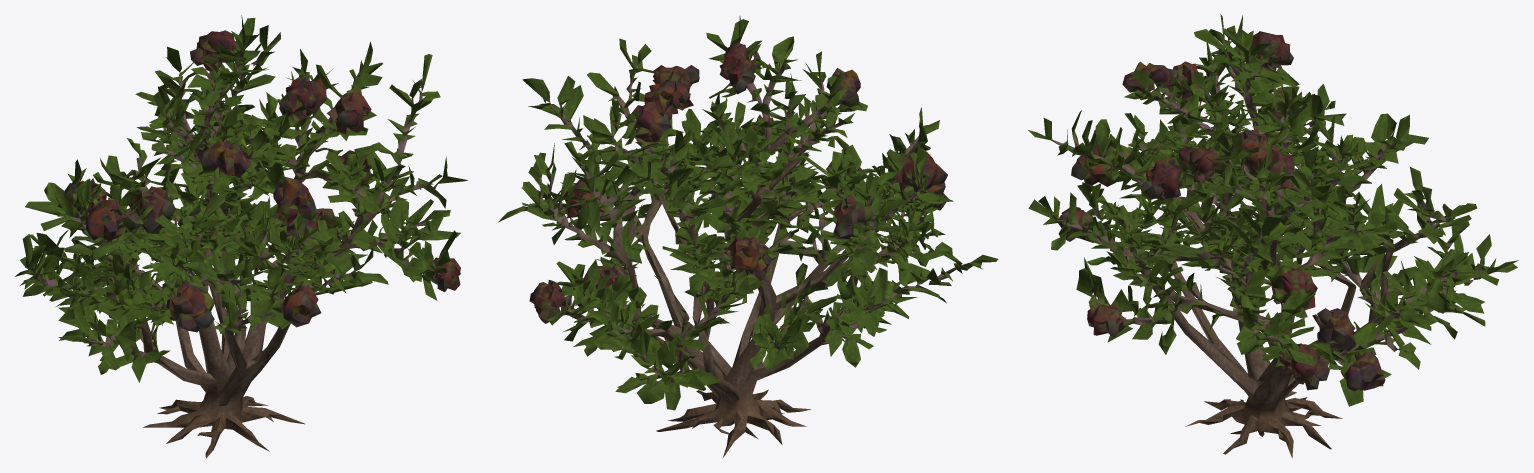
The picture shows the model from 3 angles, left to right: view 1: azimuth 30°, elevation 25°; view 2: azimuth 150°, elevation 25°; view 3: azimuth 270°, elevation 25°; orthographic projection. The views are drawn at different scales.
Parts seen in each view (by area): view 1: berry-bush.002; view 2: berry-bush.002; view 3: berry-bush.002.
Boxes of the visible parts, x1=… form: berry-bush.002: x1=15, y1=15, x2=467, y2=458; berry-bush.002: x1=498, y1=16, x2=998, y2=458; berry-bush.002: x1=1028, y1=14, x2=1518, y2=457.
Bounding box in the file's own units: 1.33 × 1.2 × 1.27.
Materials: 1 (1 with a texture image).
